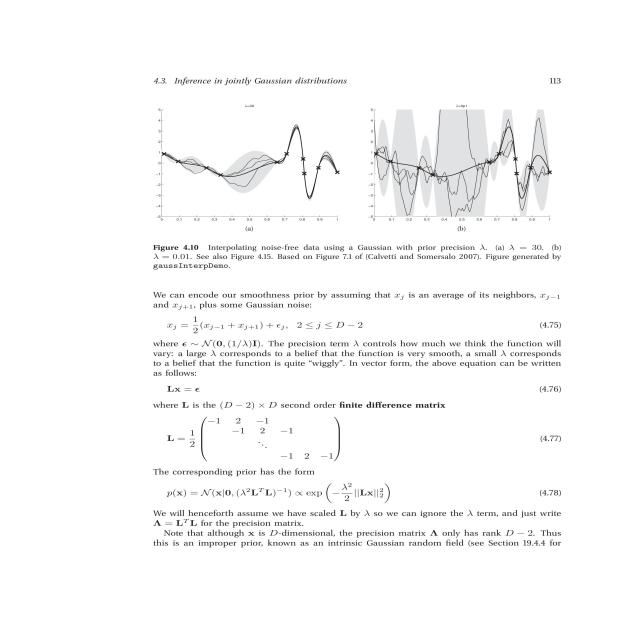diagram: (131, 98, 588, 272)
